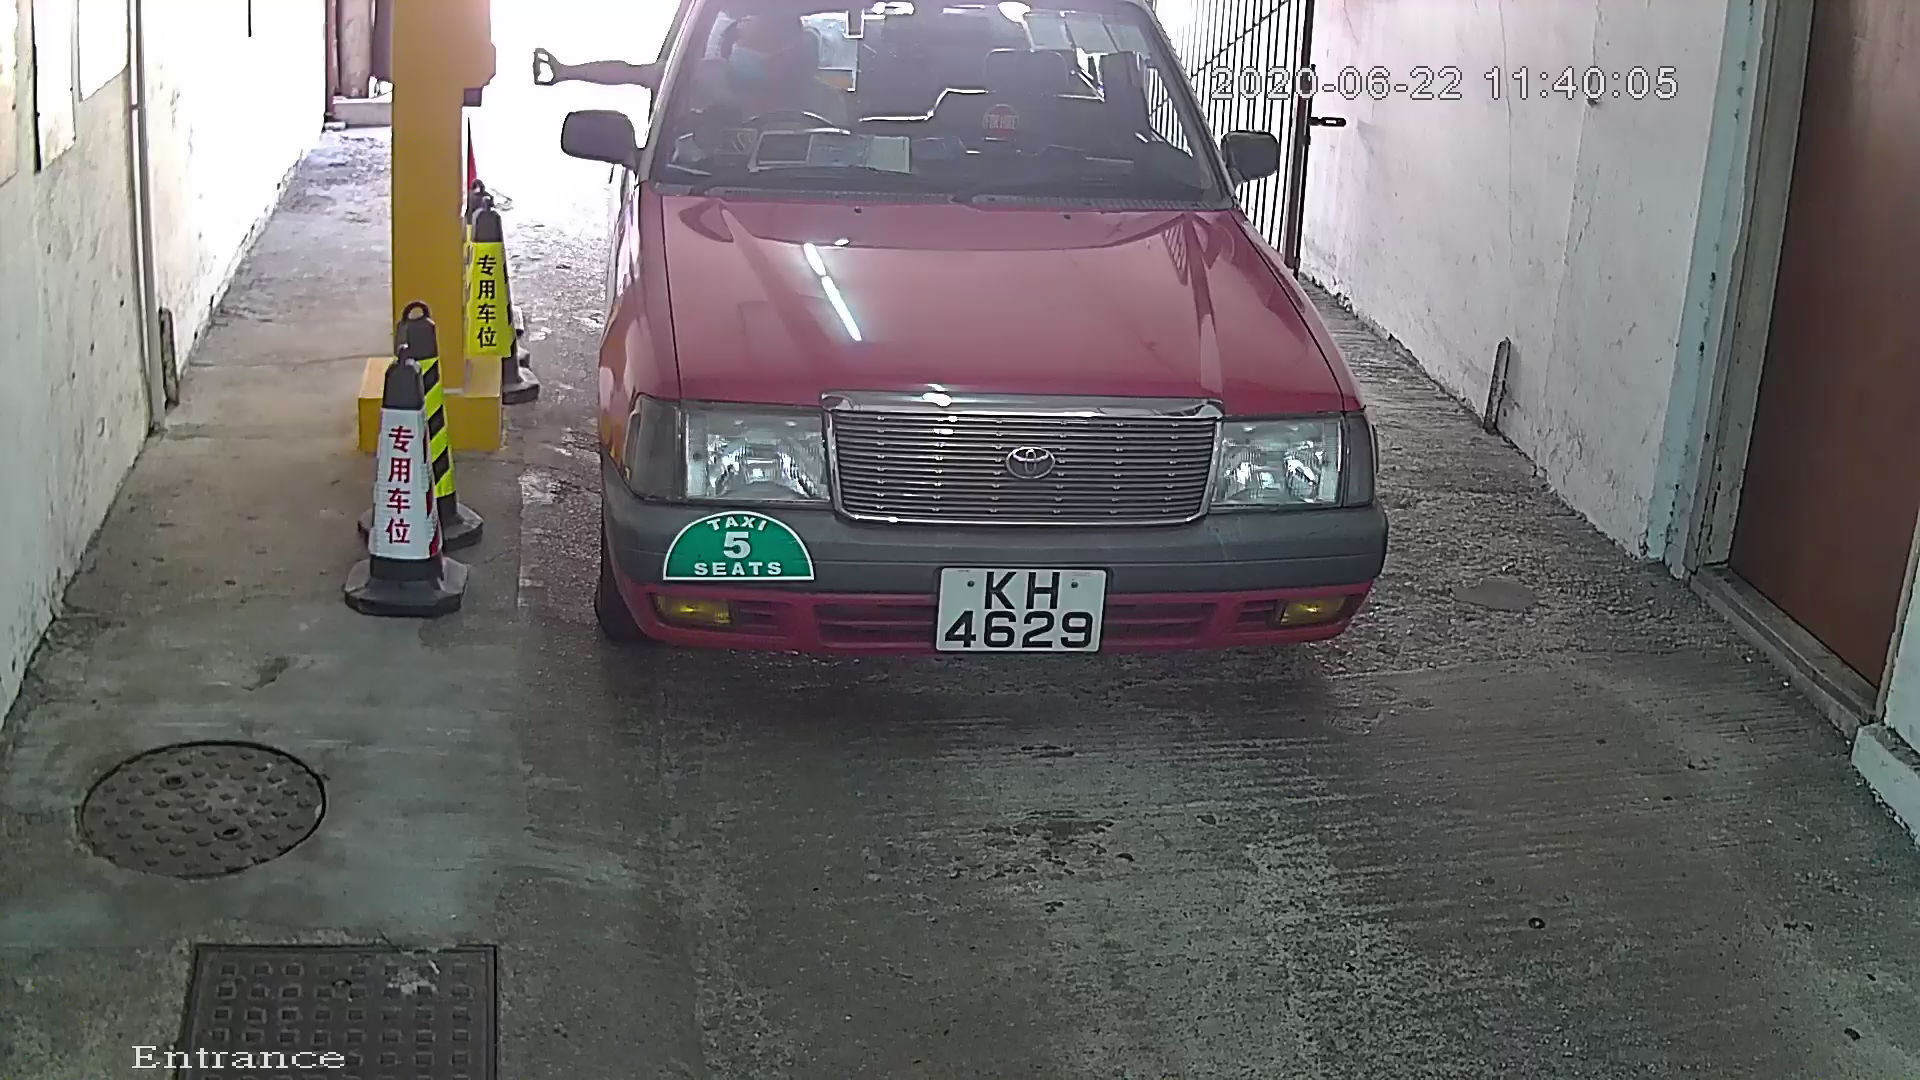taxi: (514, 3, 1451, 843)
taxi_mark: (637, 477, 848, 616)
